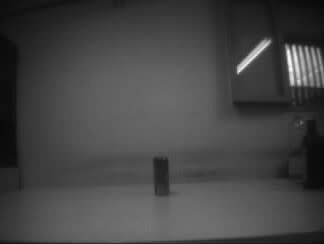Tin can: (152, 155, 170, 197)
